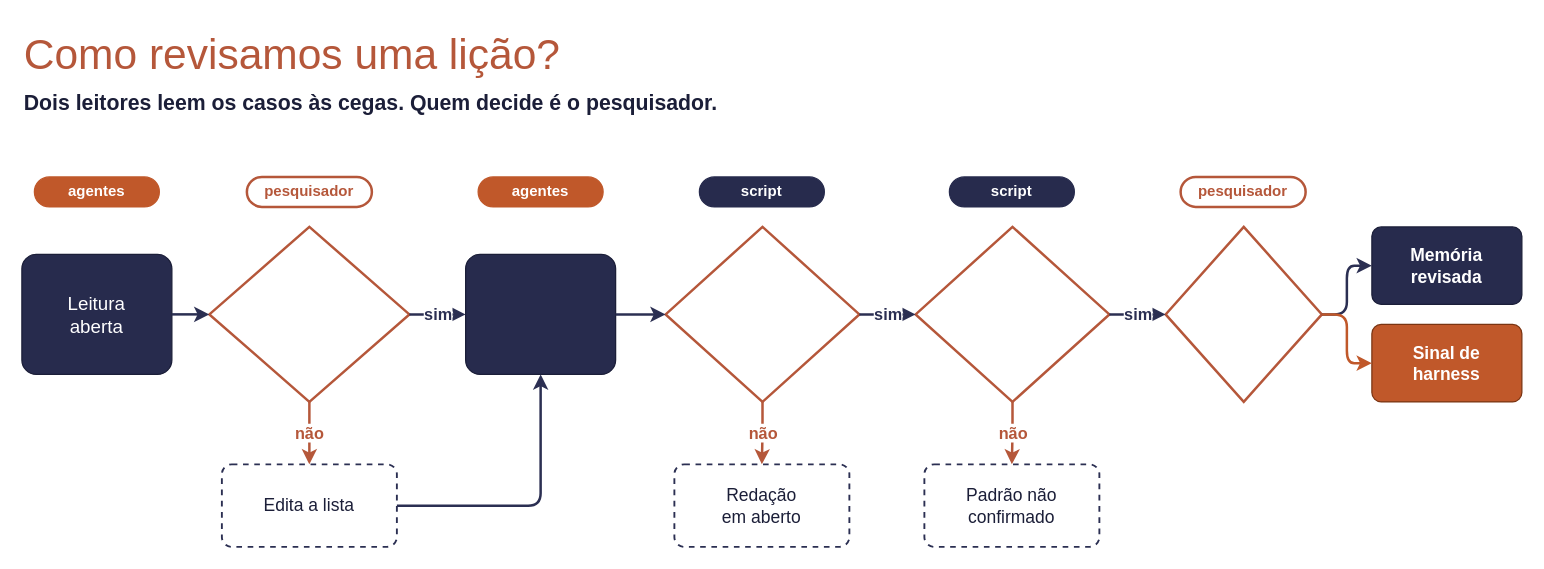
This 1544x569 diagram has some shape labels left out. Here are the shapes that lost their labels. From the top down, the box of each, then its label:
(208, 225, 410, 402): A lista de lições está boa?
(464, 253, 616, 374): Leitura fechada
(664, 225, 860, 402): Os leitores concordam? kappa ≥ 0,6
(914, 225, 1110, 402): A regra acha o padrão? ≥ 90%
(1164, 225, 1322, 402): Qual destino?
